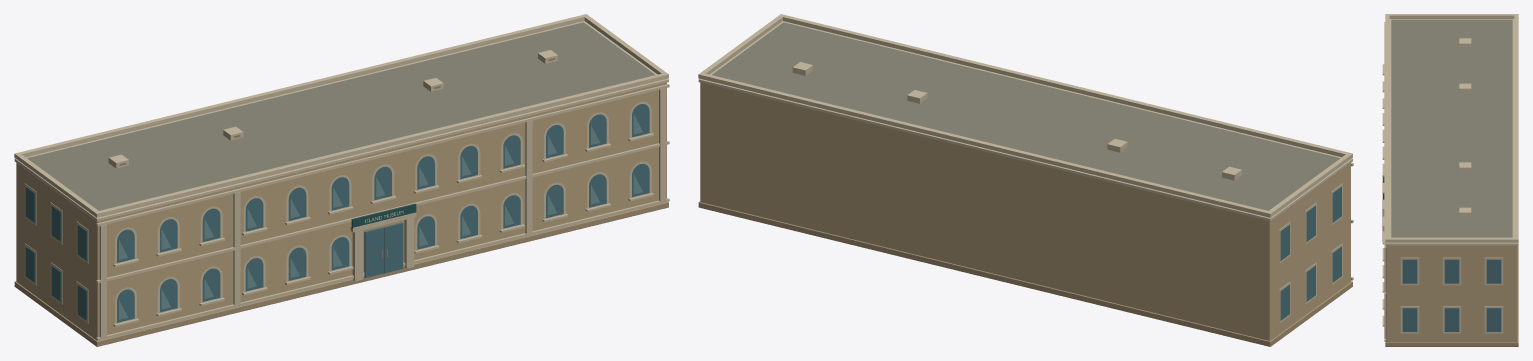
Rendered from alc_museum_far.glb.
3 views of the same model, side by side, from view 1: azimuth 30°, elevation 25°; view 2: azimuth 150°, elevation 25°; view 3: azimuth 270°, elevation 25° (orthographic). The views are drawn at different scales.
Visible parts, largest first — view 1: alc_museum_far; view 2: alc_museum_far; view 3: alc_museum_far.
Part boxes in pixels (x1,y1,x2,y2): alc_museum_far: (14,14,669,346); alc_museum_far: (698,14,1353,346); alc_museum_far: (1382,14,1518,346).
Size of the model in its own units: 40 by 9 by 10.22.
